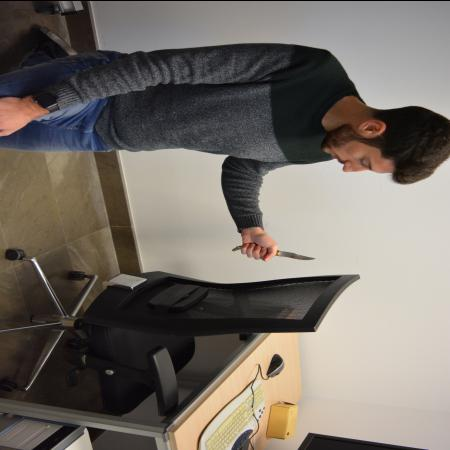long weapon: (232, 240, 318, 262)
